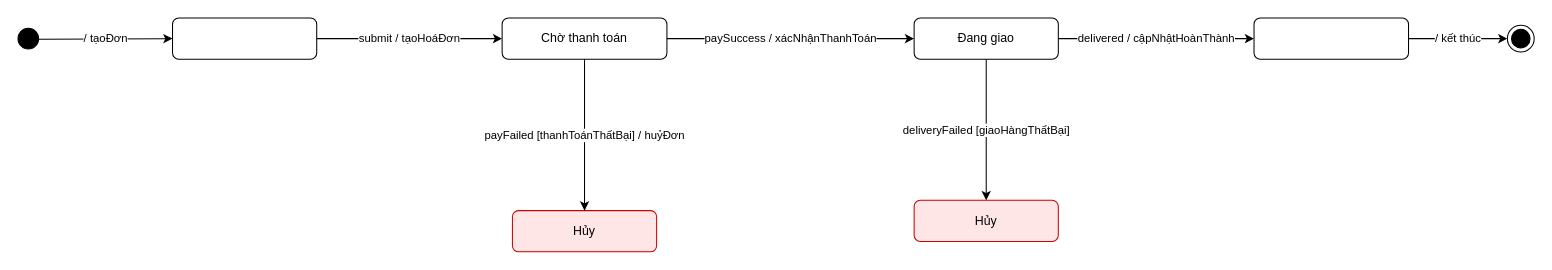
This 1552x270 diagram has some shape labels left out. Each missing label, with the centre of its shape:
Hoàn thành: point 1331,38
Tạo mới: point 244,38
